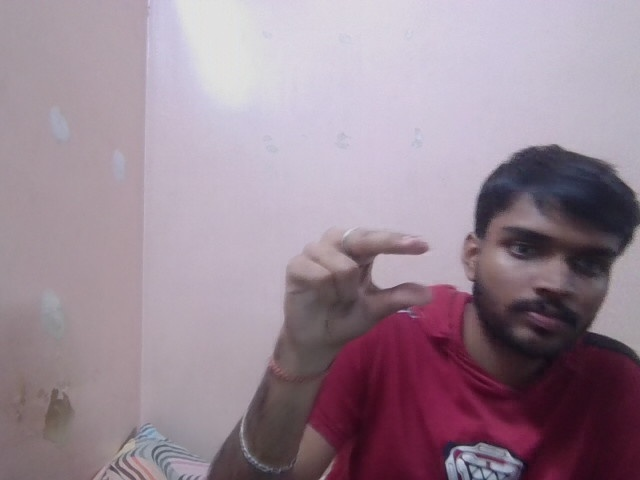No: (280, 220, 433, 340)
